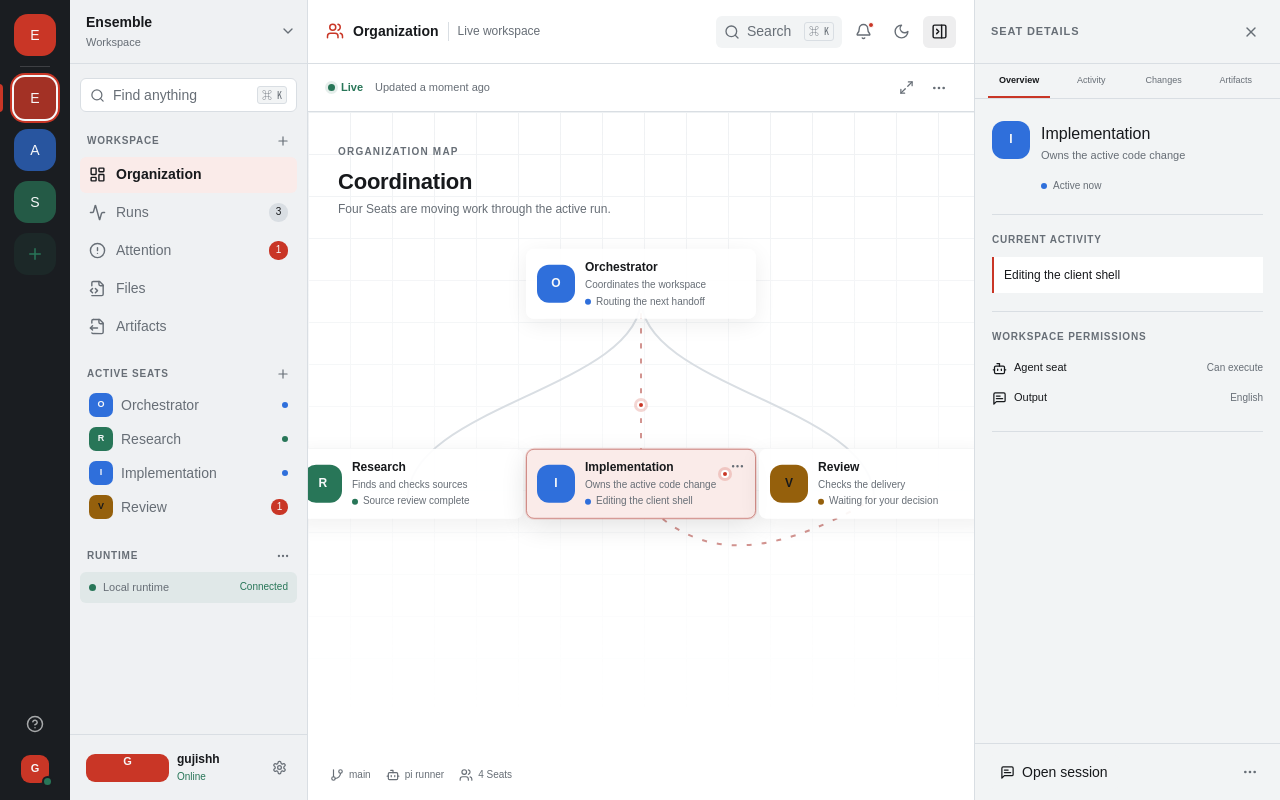
Test: DiscordUiPreview output inspection › renders distinct structured Artifact previews
What coordinates should you click on to do the following:
click the button "Artifacts"
I would click on:
 (188, 326)
Its box is [80,308,297,344].
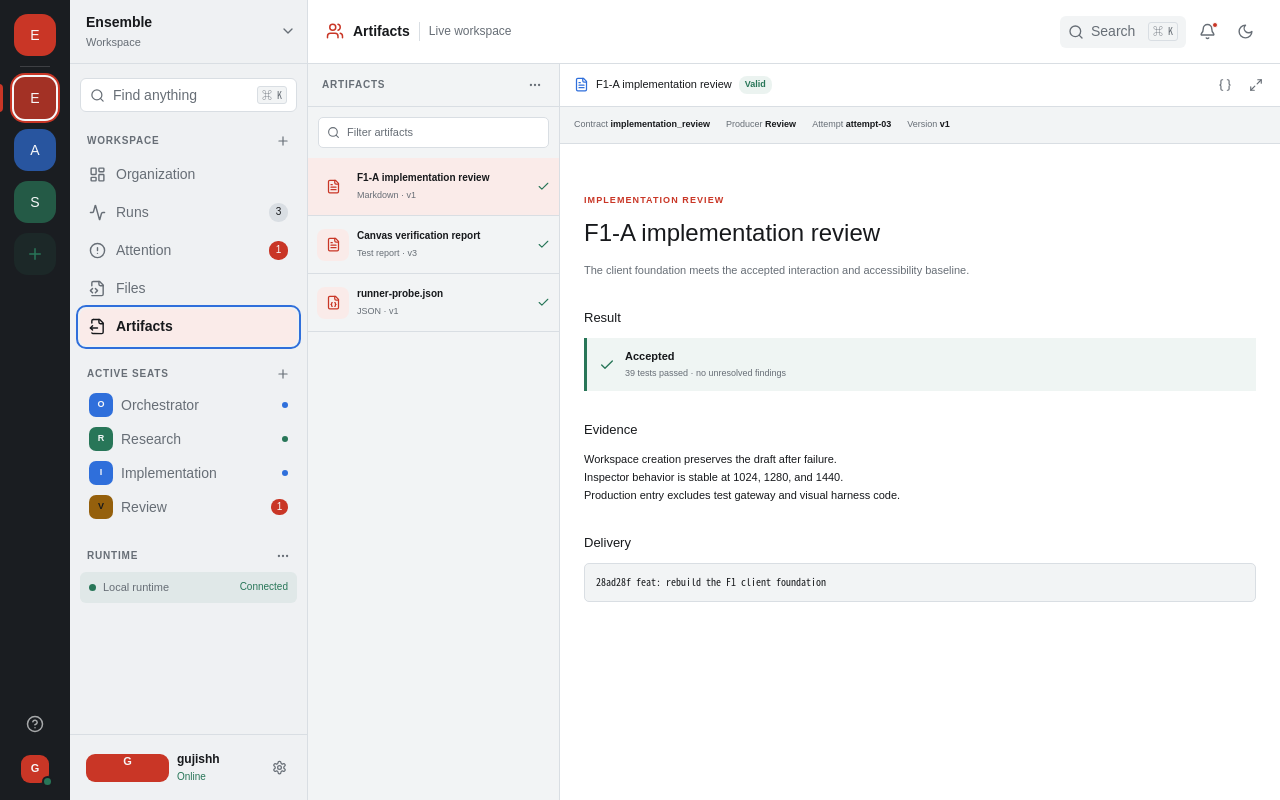
What coordinates should you click on to do the following:
click the button "runner-probe.json JSON · v1"
I would click on:
 (434, 303)
Its box is [308,274,559,332].
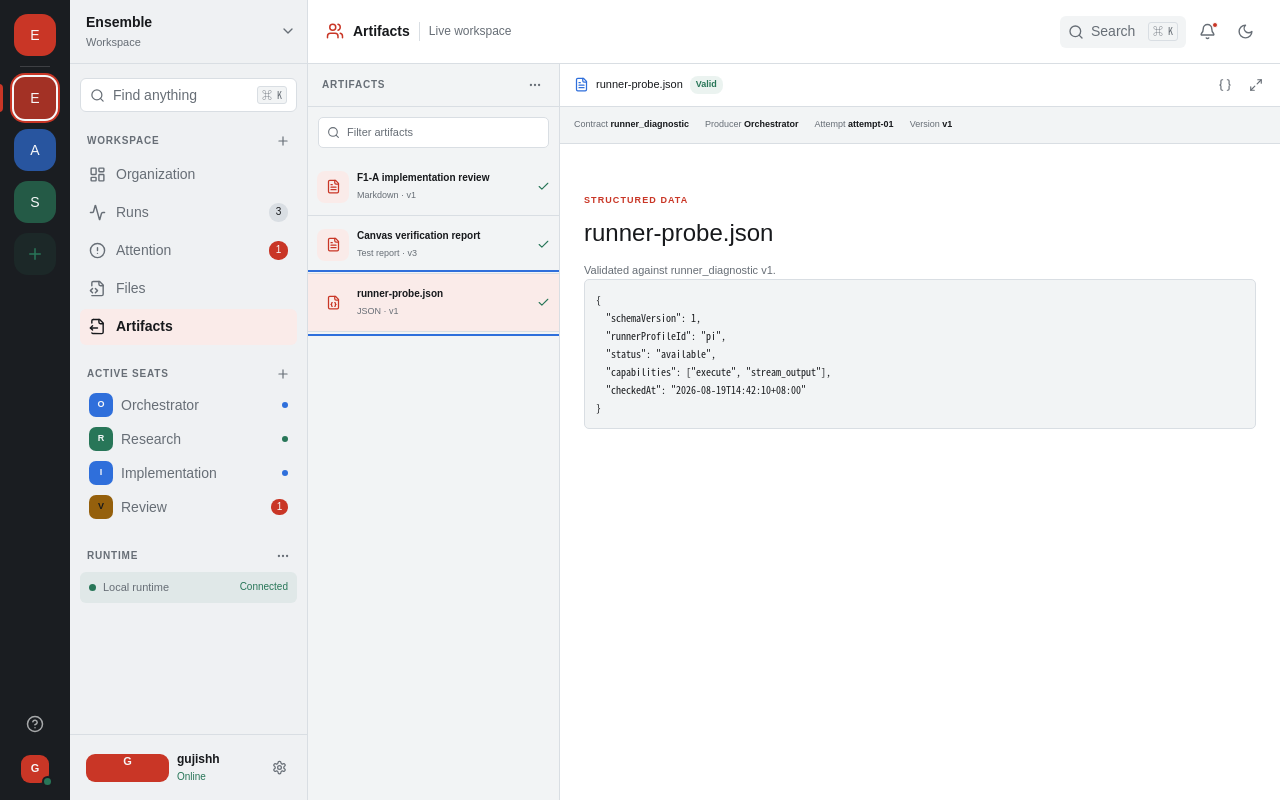
Now the heading "runner-probe.json" is shown, box [584,219,774,246]
Now the text "\"schemaVersion\": 1" is shown, box [596,292,831,415]
Now the text "runner_diagnostic" is shown, box [610,120,689,130]
